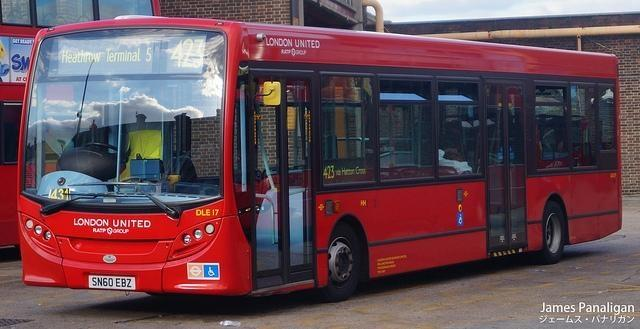bus: (16, 15, 626, 300), (0, 1, 160, 252)
